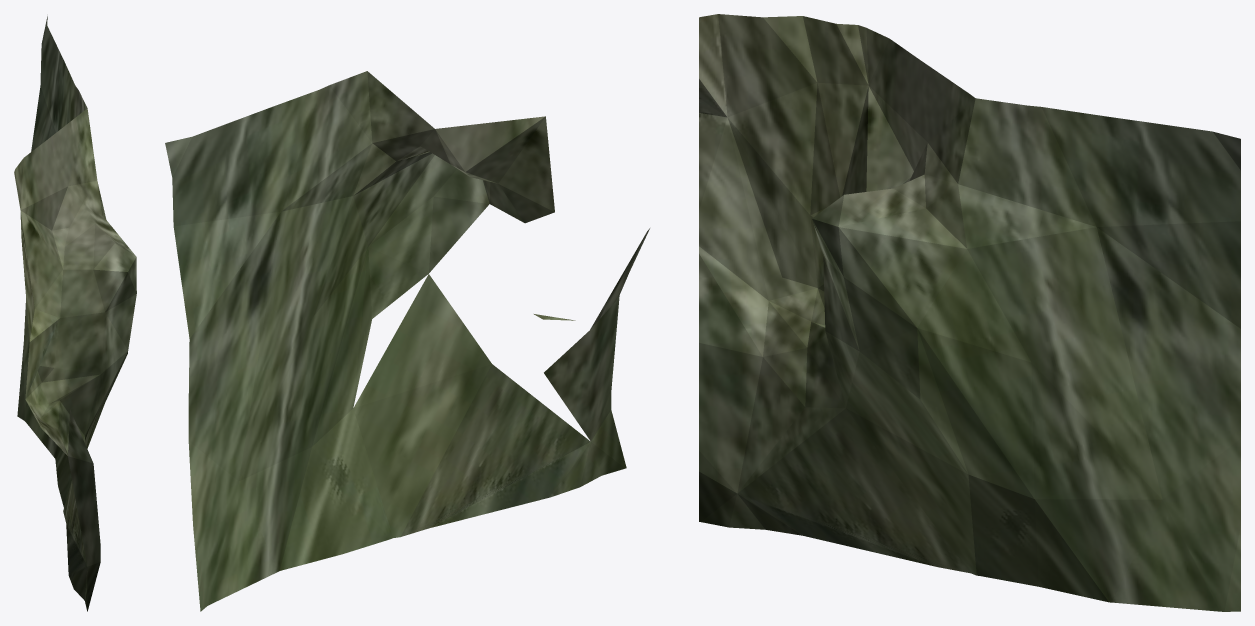
3 views of the same model, side by side, from view 1: azimuth 30°, elevation 25°; view 2: azimuth 150°, elevation 25°; view 3: azimuth 270°, elevation 25° (orthographic). The views are drawn at different scales.
Bounding box in the file's own units: 1.69 × 2.95 × 2.95.
3 materials, 3 textured.
